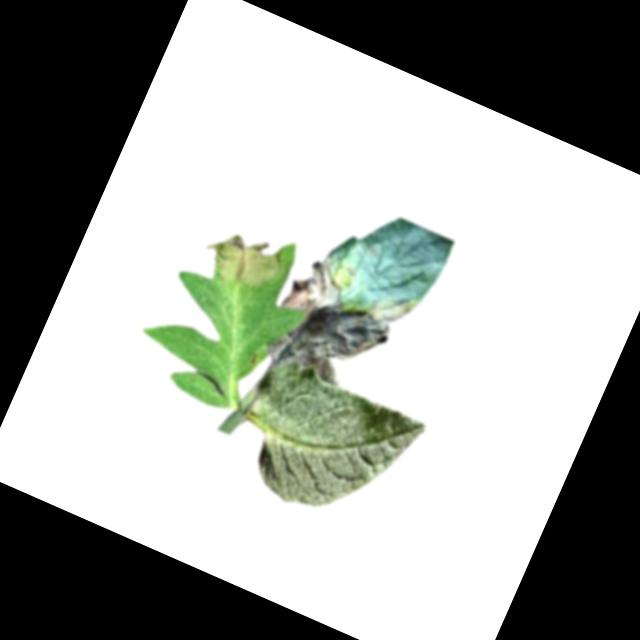Late_blight: (261, 243, 423, 404), (192, 216, 291, 303)
healthy: (218, 349, 432, 543)
